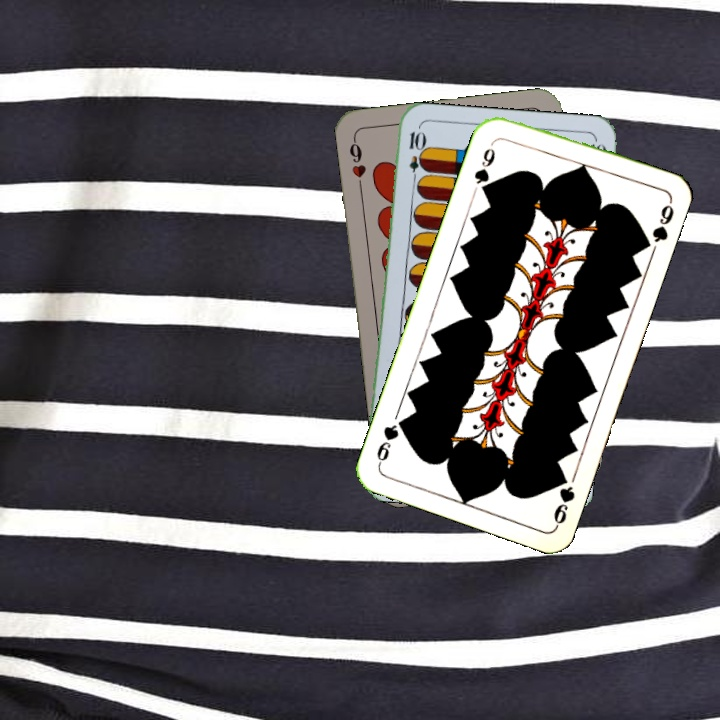E10: (405, 127, 424, 186)
G9: (549, 468, 578, 529), (470, 143, 498, 196)
H9: (345, 134, 368, 193)
